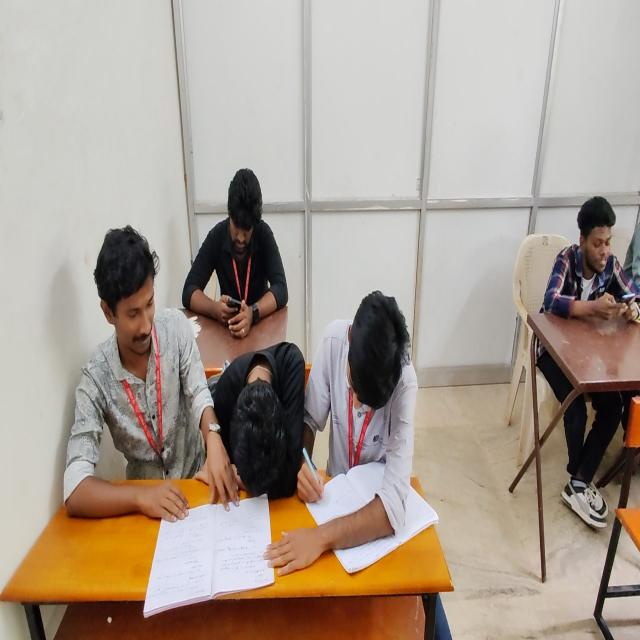sleeping: (210, 326, 310, 509)
turning: (44, 223, 232, 527)
using_mobile: (169, 157, 303, 337), (538, 196, 640, 337)
writing: (298, 273, 426, 591)
